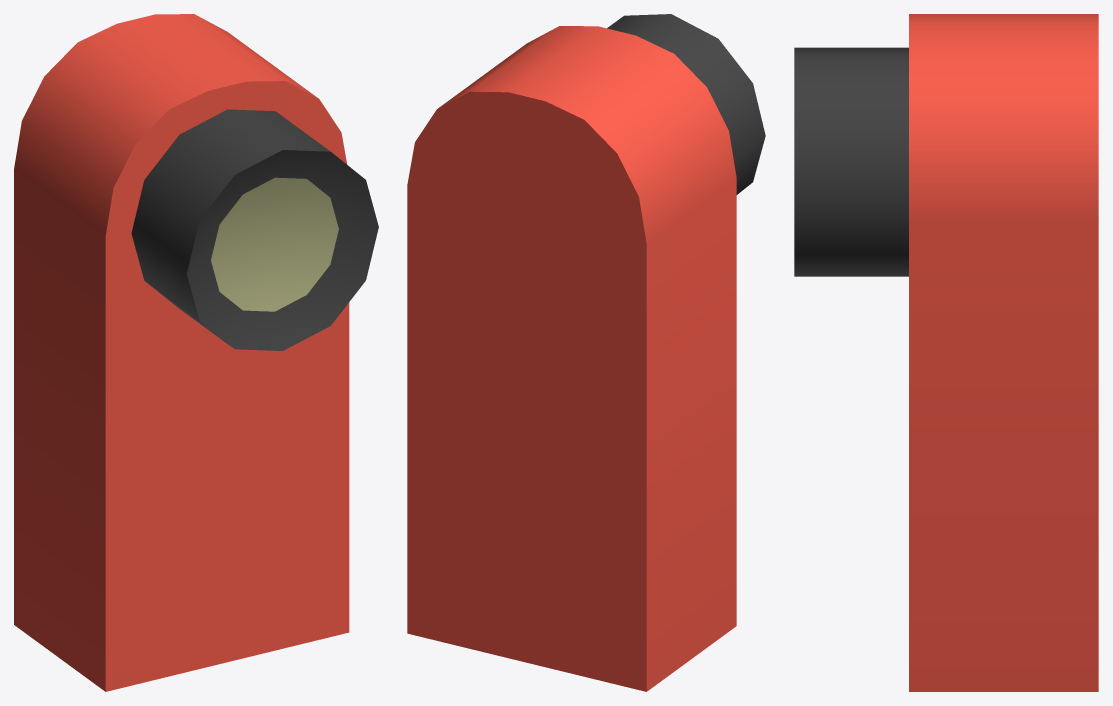
Rendered from Flashlight.fbx.
3 views of the same model, side by side, from view 1: azimuth 30°, elevation 25°; view 2: azimuth 150°, elevation 25°; view 3: azimuth 270°, elevation 25° (orthographic). The views are drawn at different scales.
Visible parts, largest first — view 1: Flashlight; view 2: Flashlight; view 3: Flashlight.
Part boxes in pixels (x1,y1,x2,y2): Flashlight: (14,14,378,691); Flashlight: (407,14,765,691); Flashlight: (794,14,1098,691).
Bounding box in the file's own units: 0.1362 × 0.3077 × 0.1423.
